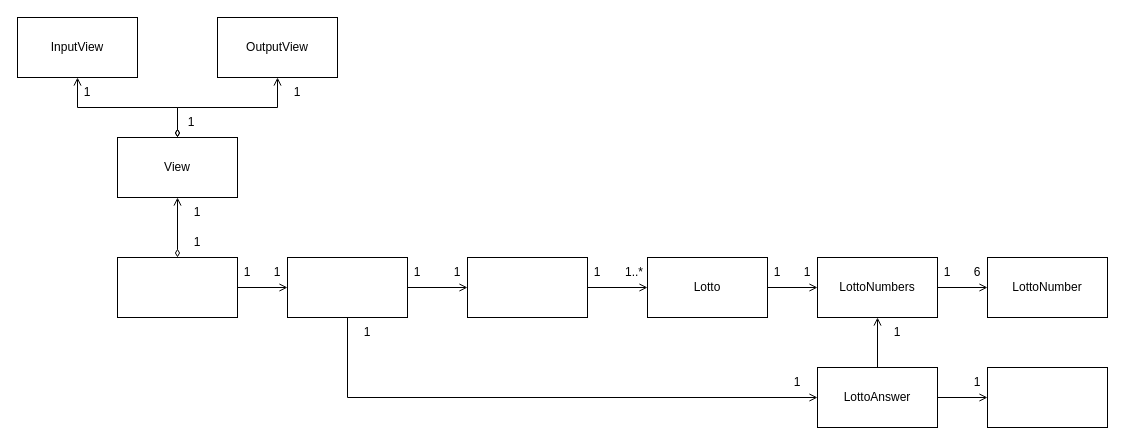
This 1125x445 diagram has some shape labels left out. Each missing label, with the box of its shape:
BonusBall: (986, 366, 1108, 428)
LottoController: (116, 256, 238, 318)
LottoHandler: (286, 256, 408, 318)
Lottos: (466, 256, 588, 318)
